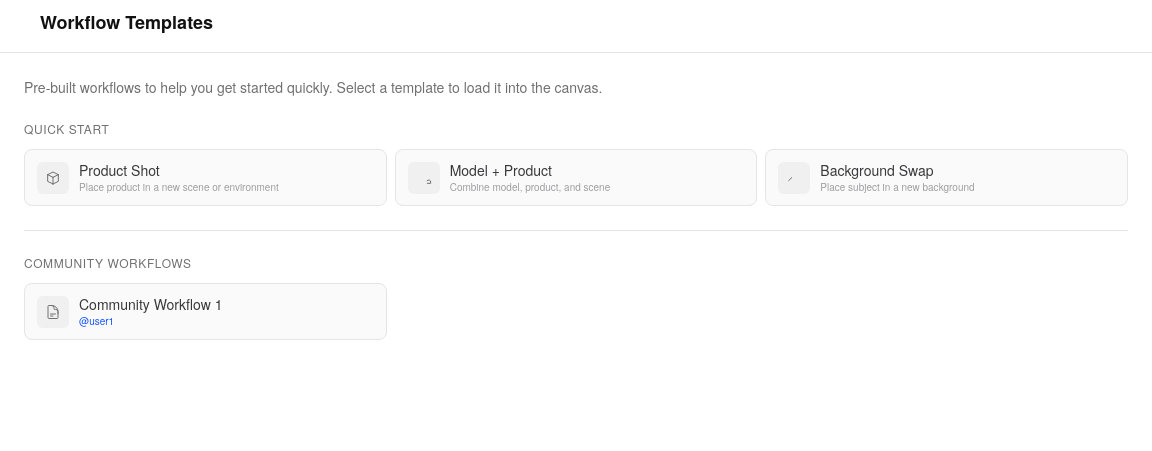
Test: QuickstartTemplatesView › Error Handling › should show error message when community workflow loading fails
This screenshot has width=1152, height=451.
Click the text "Community Workflow 1" at [151, 304], box left=79, top=294, right=222, bottom=314
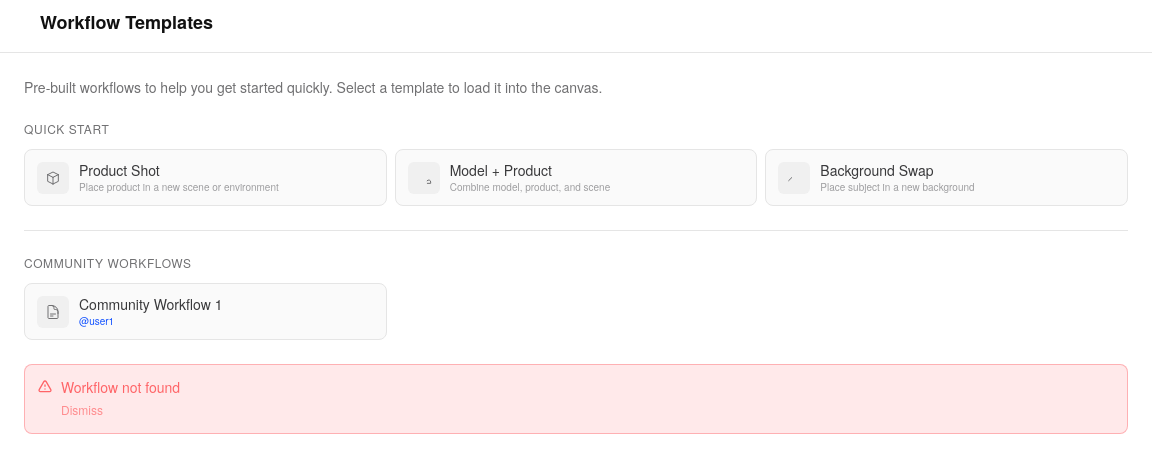
Result: the text "Workflow not found" is shown at left=61, top=377, right=180, bottom=397
